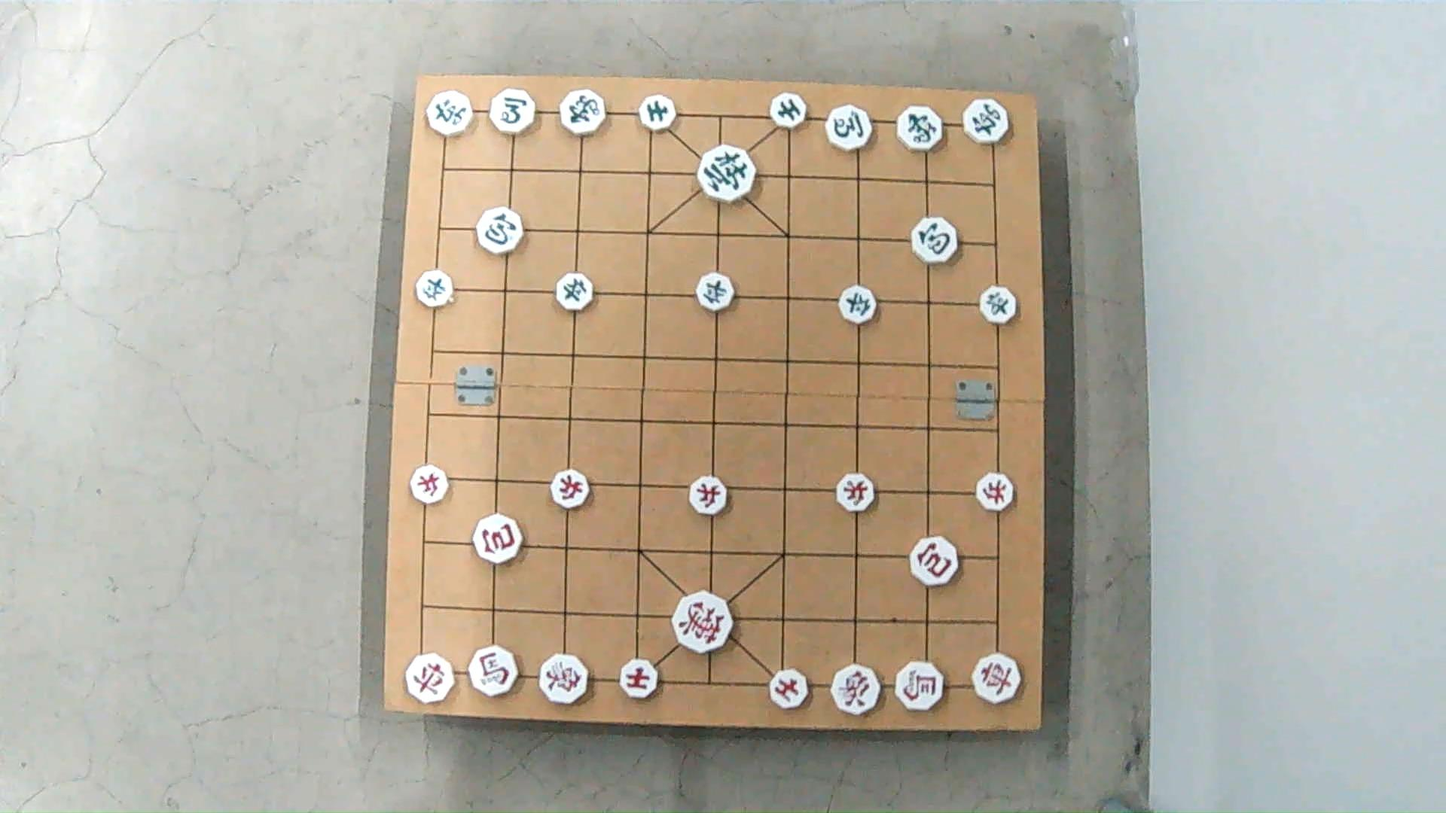cha_green: (427, 90, 474, 136), (966, 100, 1013, 145)
cha_red: (407, 653, 459, 705), (972, 652, 1017, 701)
jol_green: (697, 273, 737, 310), (840, 288, 880, 324), (978, 289, 1017, 325), (551, 274, 591, 309), (413, 271, 452, 306)
jol_red: (688, 479, 731, 516), (833, 473, 874, 509), (409, 468, 448, 505), (972, 475, 1011, 512), (550, 472, 590, 508)
ma_green: (822, 105, 872, 148), (488, 91, 537, 134)
ma_red: (466, 644, 517, 693), (896, 665, 947, 713)
po_green: (915, 219, 961, 264), (475, 209, 522, 253)
po_red: (911, 537, 960, 584), (473, 516, 523, 562)
sa_green: (637, 95, 677, 129), (771, 96, 810, 130)
sa_red: (621, 657, 656, 697), (773, 670, 807, 708)
sang_green: (896, 105, 944, 154), (560, 90, 605, 138)
sang_red: (831, 663, 880, 714), (540, 655, 587, 702)
wang_green: (697, 148, 758, 202)
wang_red: (675, 595, 737, 653)
